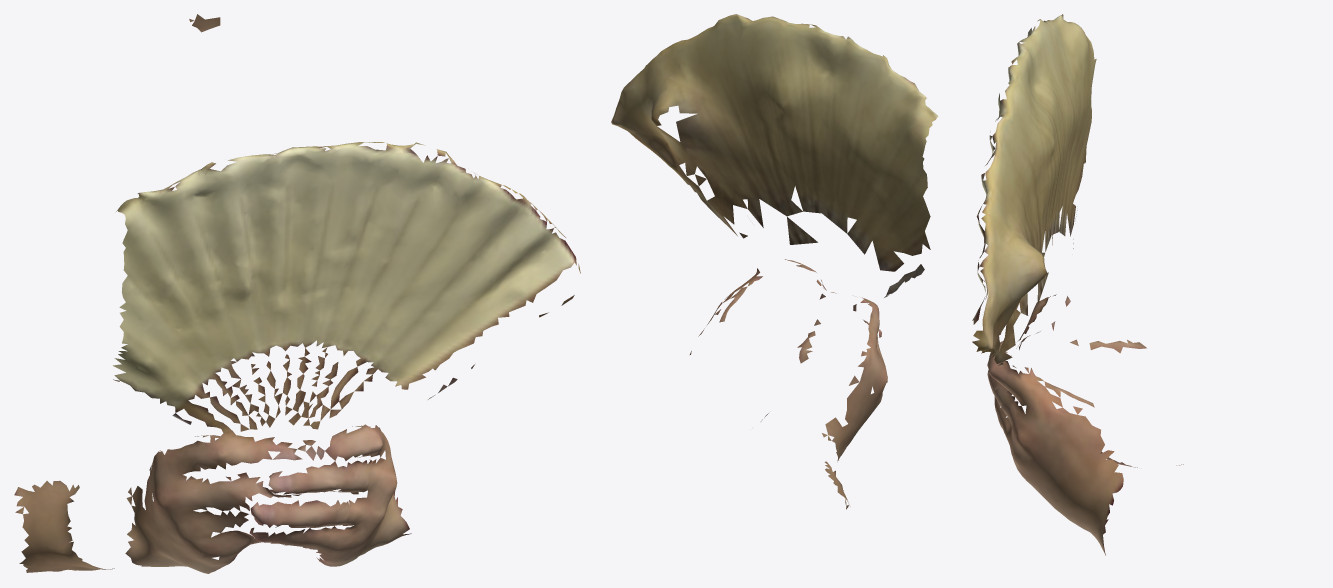
Rendered from toda_abanico.glb.
The picture shows the model from 3 angles, left to right: view 1: azimuth 30°, elevation 25°; view 2: azimuth 150°, elevation 25°; view 3: azimuth 270°, elevation 25°; orthographic projection. The views are drawn at different scales.
Visible parts, largest first — view 1: abanico; view 2: abanico; view 3: abanico.
Part boxes in pixels (bbox=[...]): abanico: bbox=[14, 14, 580, 573]; abanico: bbox=[611, 14, 938, 509]; abanico: bbox=[972, 14, 1183, 555].
Size of the model in its own units: 2.94 by 3.34 by 2.2.
1 material, 1 textured.
